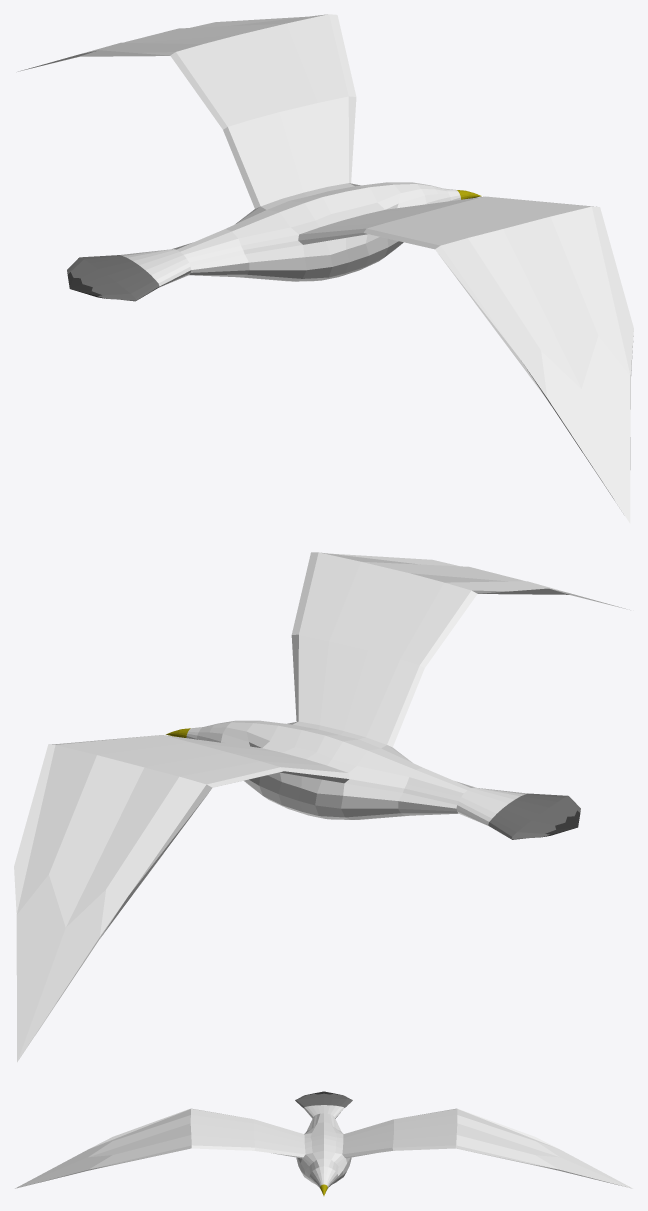
File: Bird.FBX
3 renders of one model, top to bottom at view 1: azimuth 30°, elevation 25°; view 2: azimuth 150°, elevation 25°; view 3: azimuth 270°, elevation 25°, orthographic. The views are drawn at different scales.
Visible parts, largest first — view 1: Cylinder001; view 2: Cylinder001; view 3: Cylinder001.
Part boxes in pixels (x1=…): Cylinder001: x1=18, y1=14, x2=633, y2=523; Cylinder001: x1=14, y1=552, x2=630, y2=1062; Cylinder001: x1=15, y1=1091, x2=632, y2=1195.
Bounding box in the file's own units: 2.44 × 0.8741 × 6.31.
